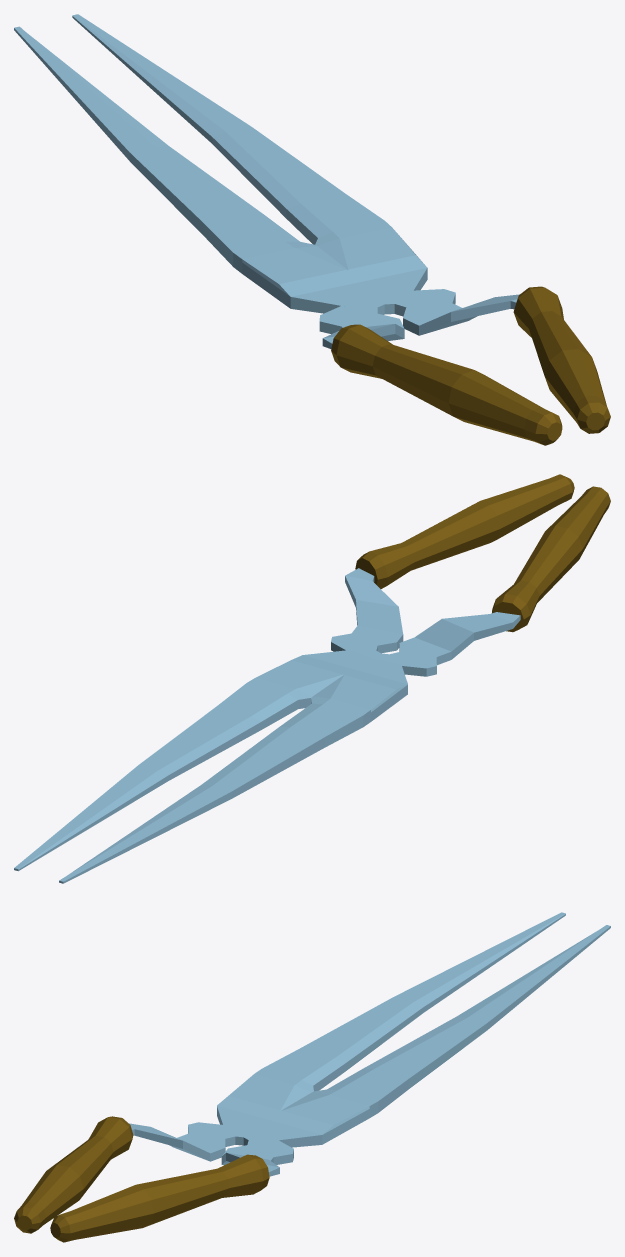
Rendered from Sheers.fbx.
3 renders of one model, top to bottom at view 1: azimuth 30°, elevation 25°; view 2: azimuth 150°, elevation 25°; view 3: azimuth 330°, elevation 25°, orthographic. The views are drawn at different scales.
Parts seen in each view (by area): view 1: ShearHandle; view 2: ShearHandle; view 3: ShearHandle.
Boxes of the visible parts, x1,y1,x2,y2 form: ShearHandle: (14,14,610,445); ShearHandle: (14,474,610,883); ShearHandle: (14,912,610,1242).
Bounding box in the file's own units: 16.12 × 5.18 × 77.41.
